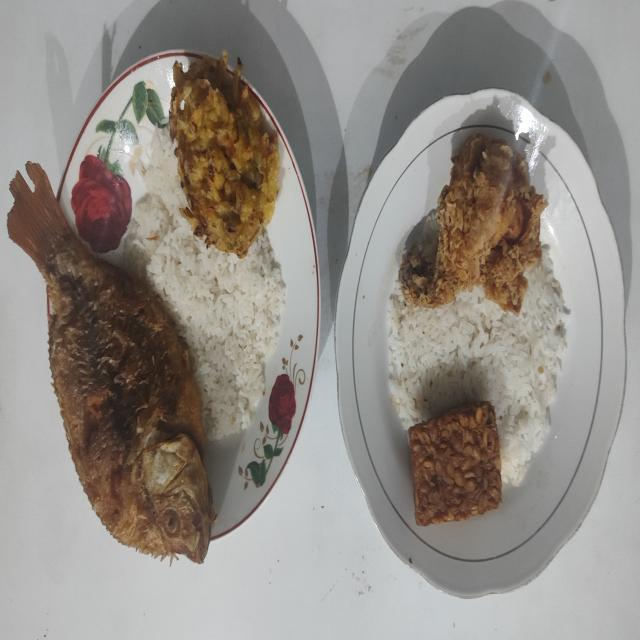ikan_mujair: (8, 162, 216, 562)
nasi_putih: (126, 130, 286, 440), (388, 244, 568, 486)
tempe_goreng: (408, 402, 502, 526)
